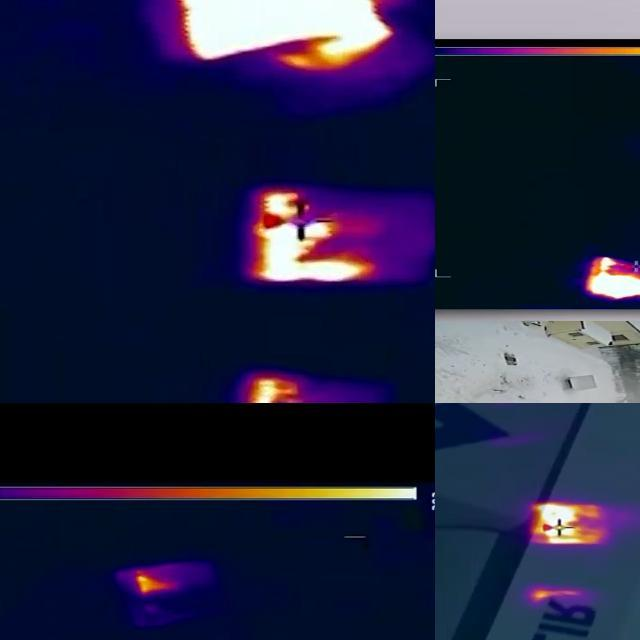fire: (155, 1, 407, 71), (248, 187, 386, 283), (528, 504, 612, 544), (238, 372, 322, 404), (585, 255, 640, 299), (136, 573, 174, 595)
